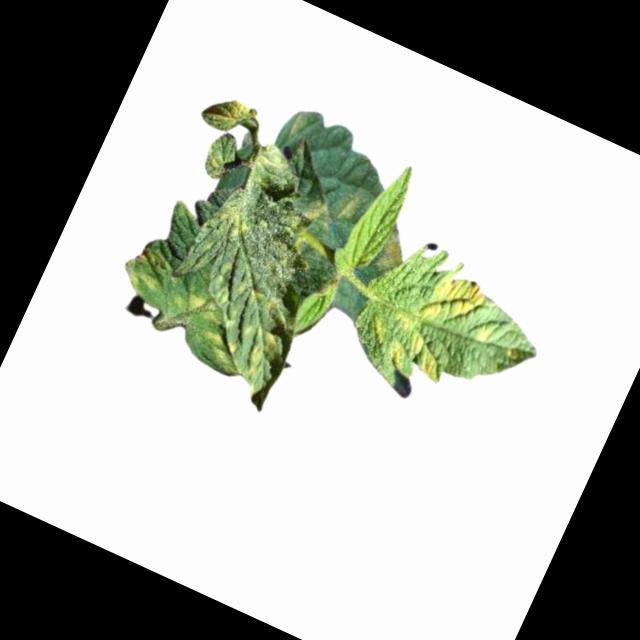Leaf_Mold: (361, 298, 460, 387), (415, 263, 488, 336), (227, 320, 292, 396), (118, 241, 175, 299), (204, 195, 258, 249), (201, 88, 257, 139), (171, 286, 227, 332), (369, 220, 413, 275), (192, 327, 235, 366), (298, 192, 334, 229), (329, 188, 363, 223)
